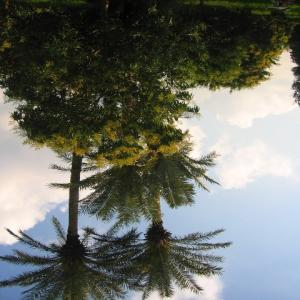palm tree: (0, 1, 294, 299)
